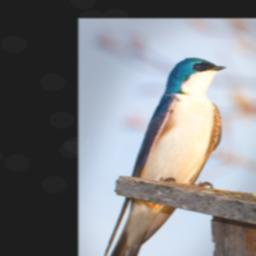Swallow: (101, 56, 227, 256)
